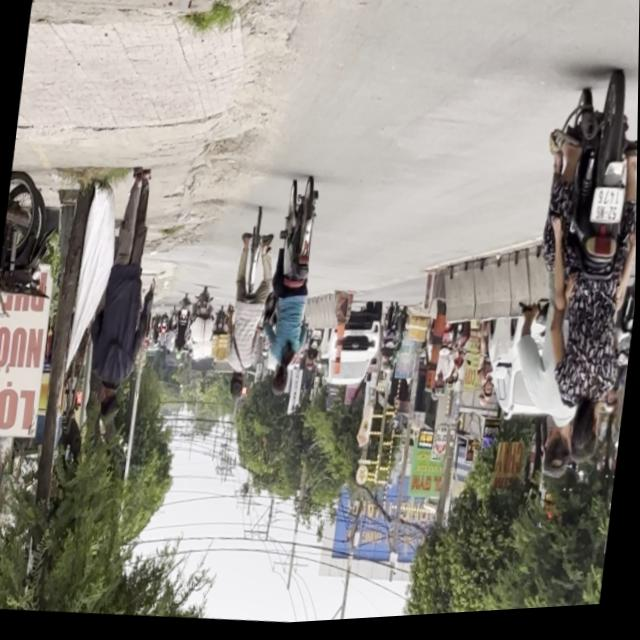licenseplate: (505, 72, 639, 493)
motorcyclist: (539, 426, 577, 489), (569, 407, 601, 466)
nohelmet: (590, 194, 625, 233)
